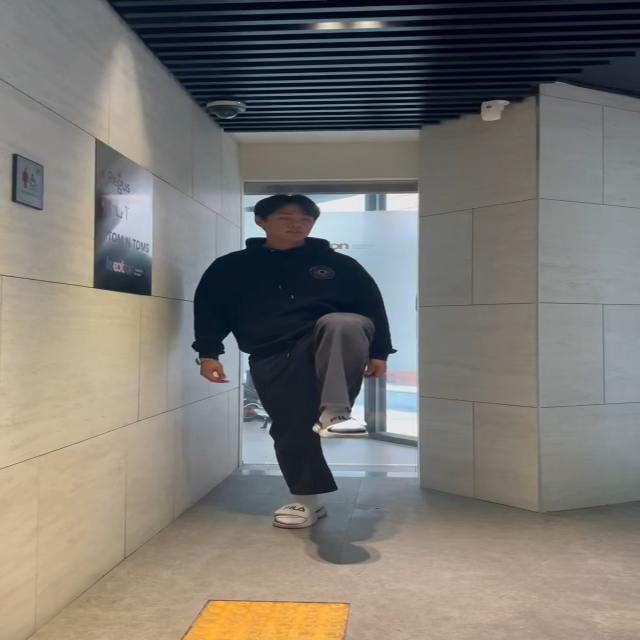knee: (265, 299, 410, 447)
